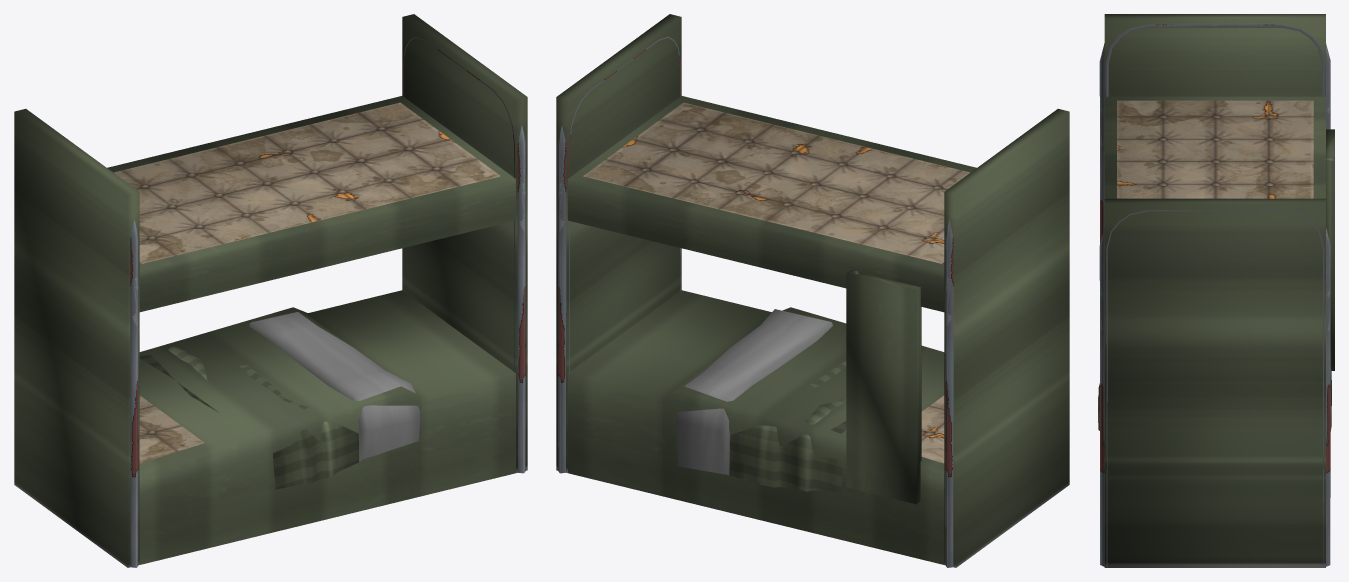
Rendered from bed04_B.fbx.
The picture shows the model from 3 angles, left to right: view 1: azimuth 30°, elevation 25°; view 2: azimuth 150°, elevation 25°; view 3: azimuth 270°, elevation 25°; orthographic projection. The views are drawn at different scales.
Visible parts, largest first — view 1: bed04_B_COL, bed04_B; view 2: bed04_B_COL, bed04_B; view 3: bed04_B_COL, bed04_B.
Boxes of the visible parts, left/top/right/bottom form: bed04_B_COL: left=14, top=14, right=527, bottom=567; bed04_B: left=113, top=36, right=526, bottom=567; bed04_B_COL: left=556, top=14, right=1069, bottom=567; bed04_B: left=557, top=36, right=970, bottom=567; bed04_B_COL: left=1104, top=14, right=1334, bottom=567; bed04_B: left=1098, top=24, right=1334, bottom=567.
Size of the model in its own units: 216 by 192 by 113.
